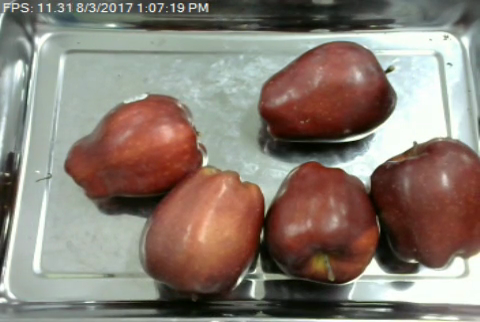Apple: (134, 162, 267, 297), (62, 89, 212, 204), (256, 158, 380, 289), (365, 136, 480, 273), (256, 38, 402, 145)
